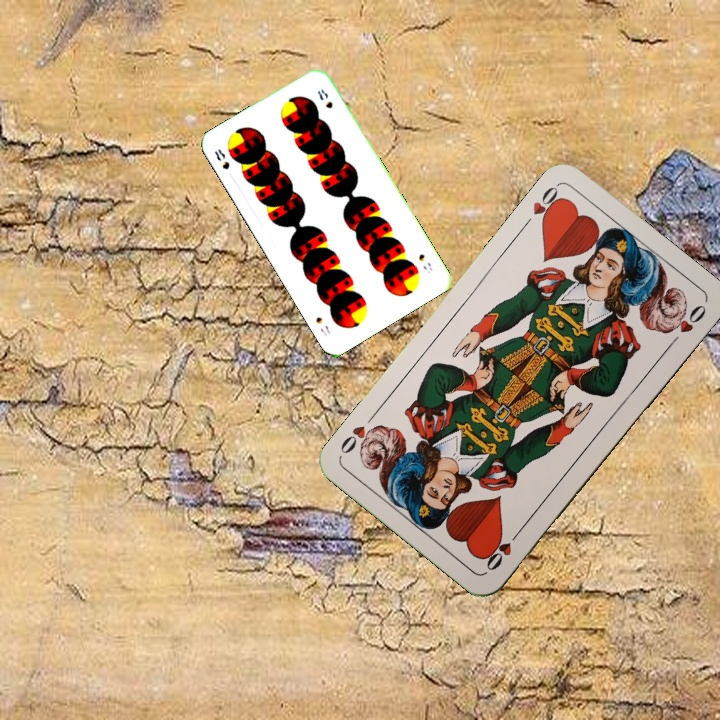HO: (518, 182, 567, 231), (481, 524, 525, 574)
S8: (210, 145, 232, 172), (414, 250, 435, 276)
